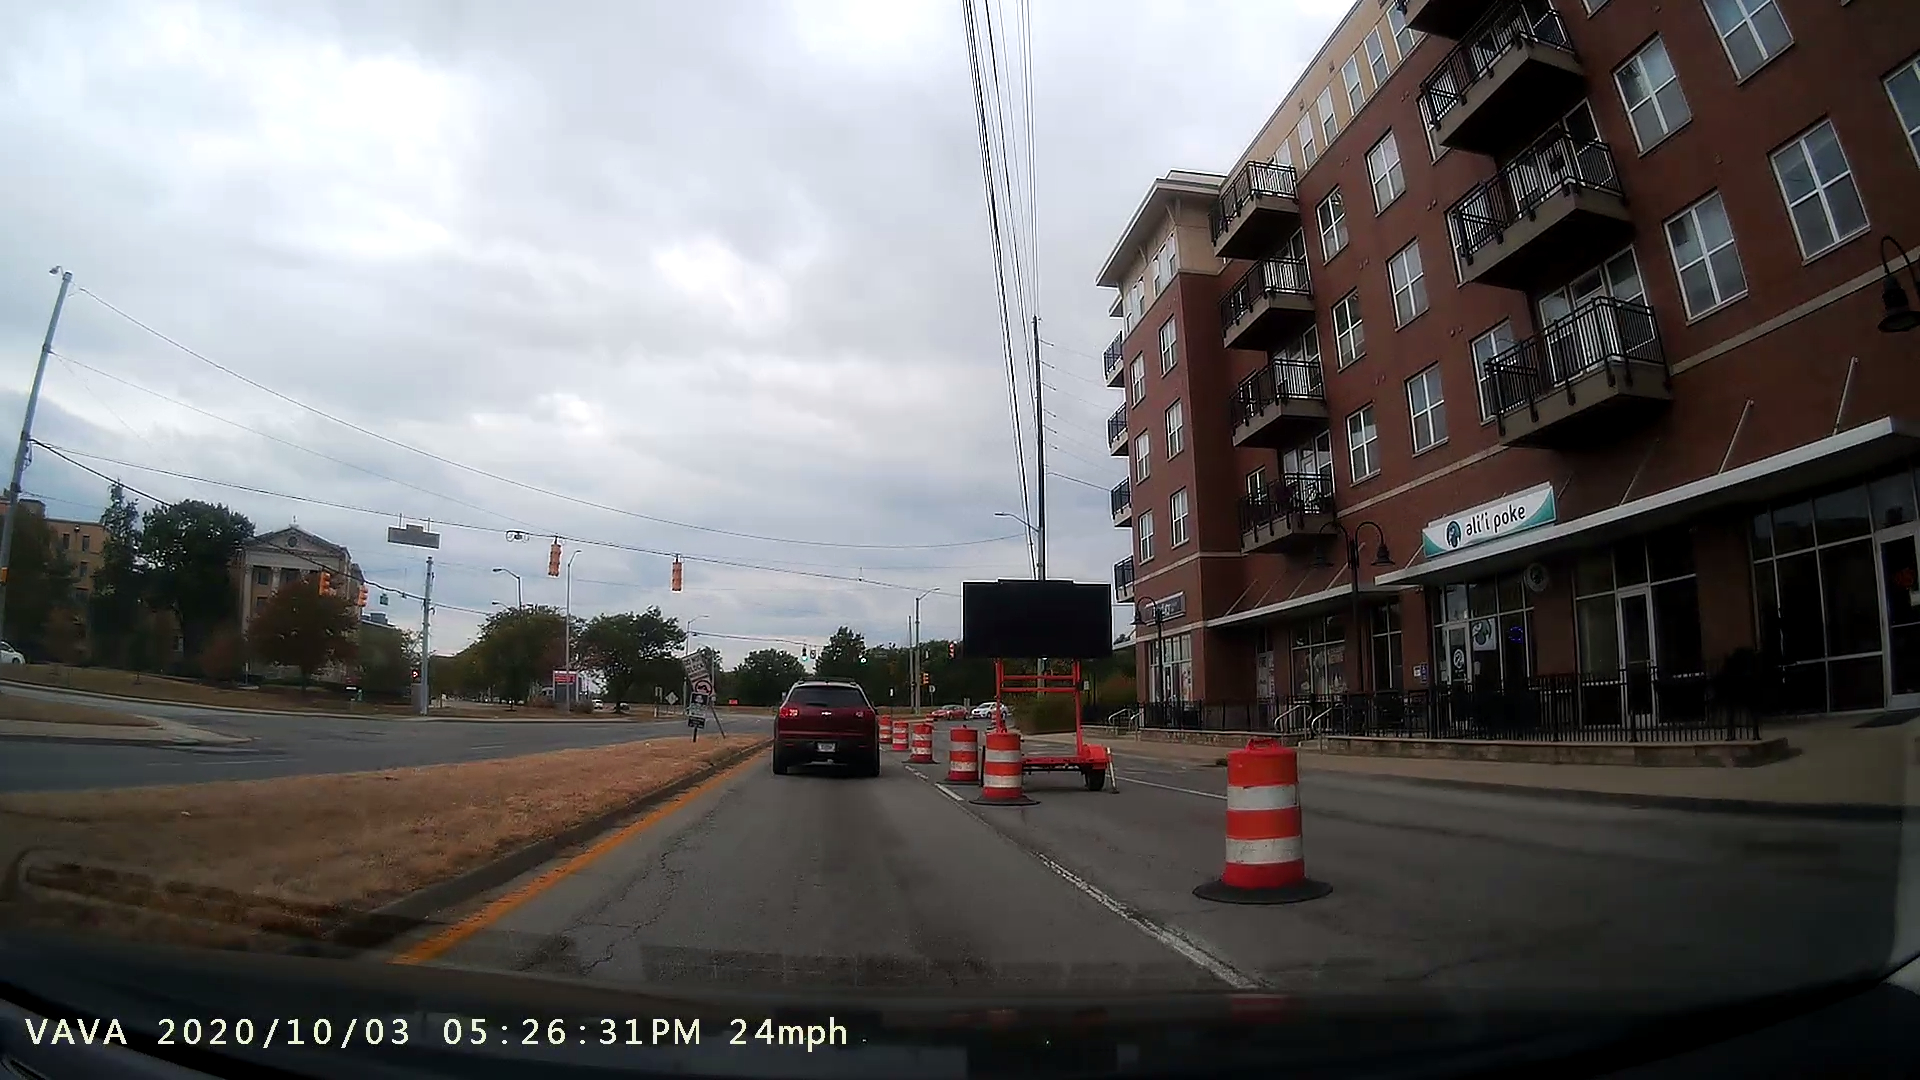const_barrel: (1189, 729, 1338, 916), (980, 721, 1042, 806), (943, 720, 981, 793)
